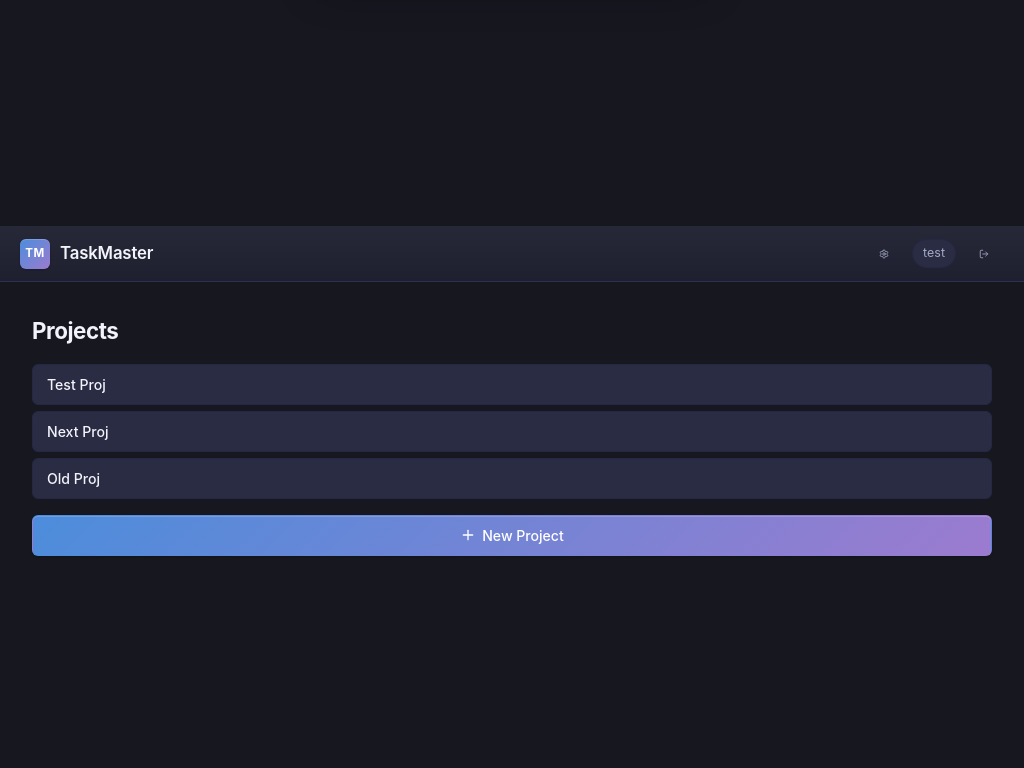
App › exposes desktop drop affordances only on other active projects
(page scrolled)
Click the button "Test Proj": (76, 384) [32,364,992,405]
(page scrolled)
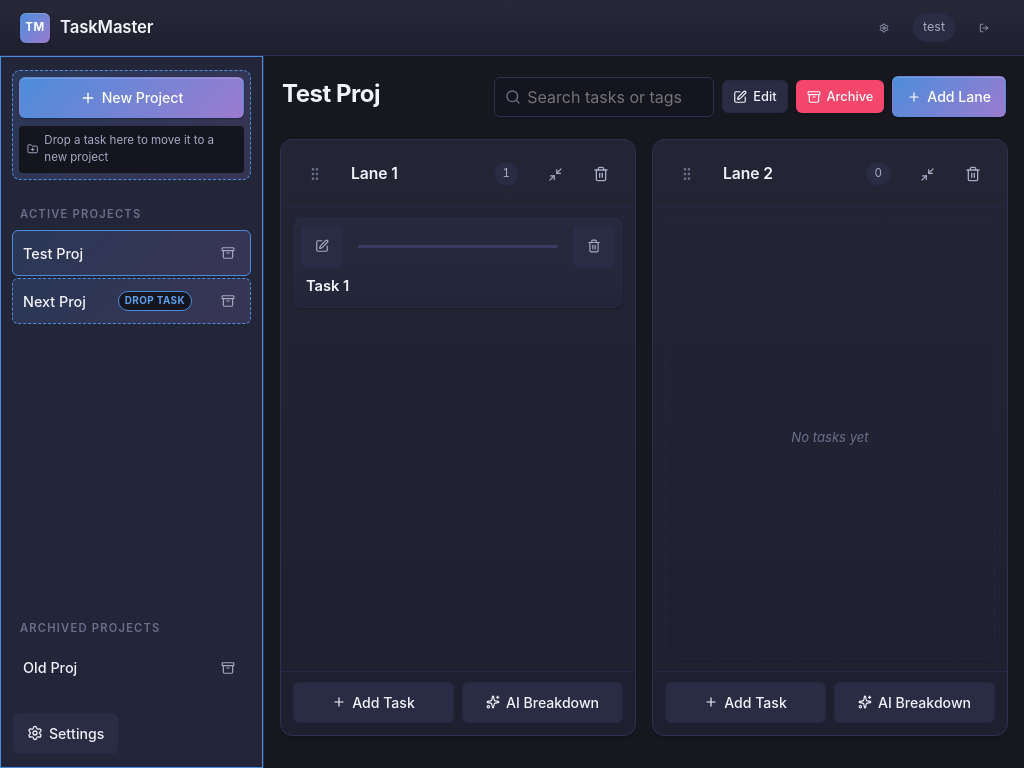
expect the text "Task 1" is shown: met, box [306,277,349,295]
expect the element showing "Next Proj Drop task" is shown: met, box [12,278,251,324]
